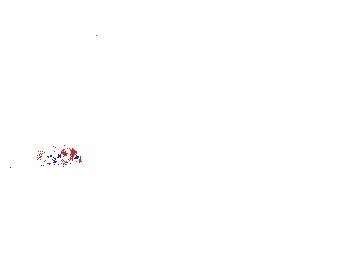red belly glassfish: (38, 145, 83, 170)
